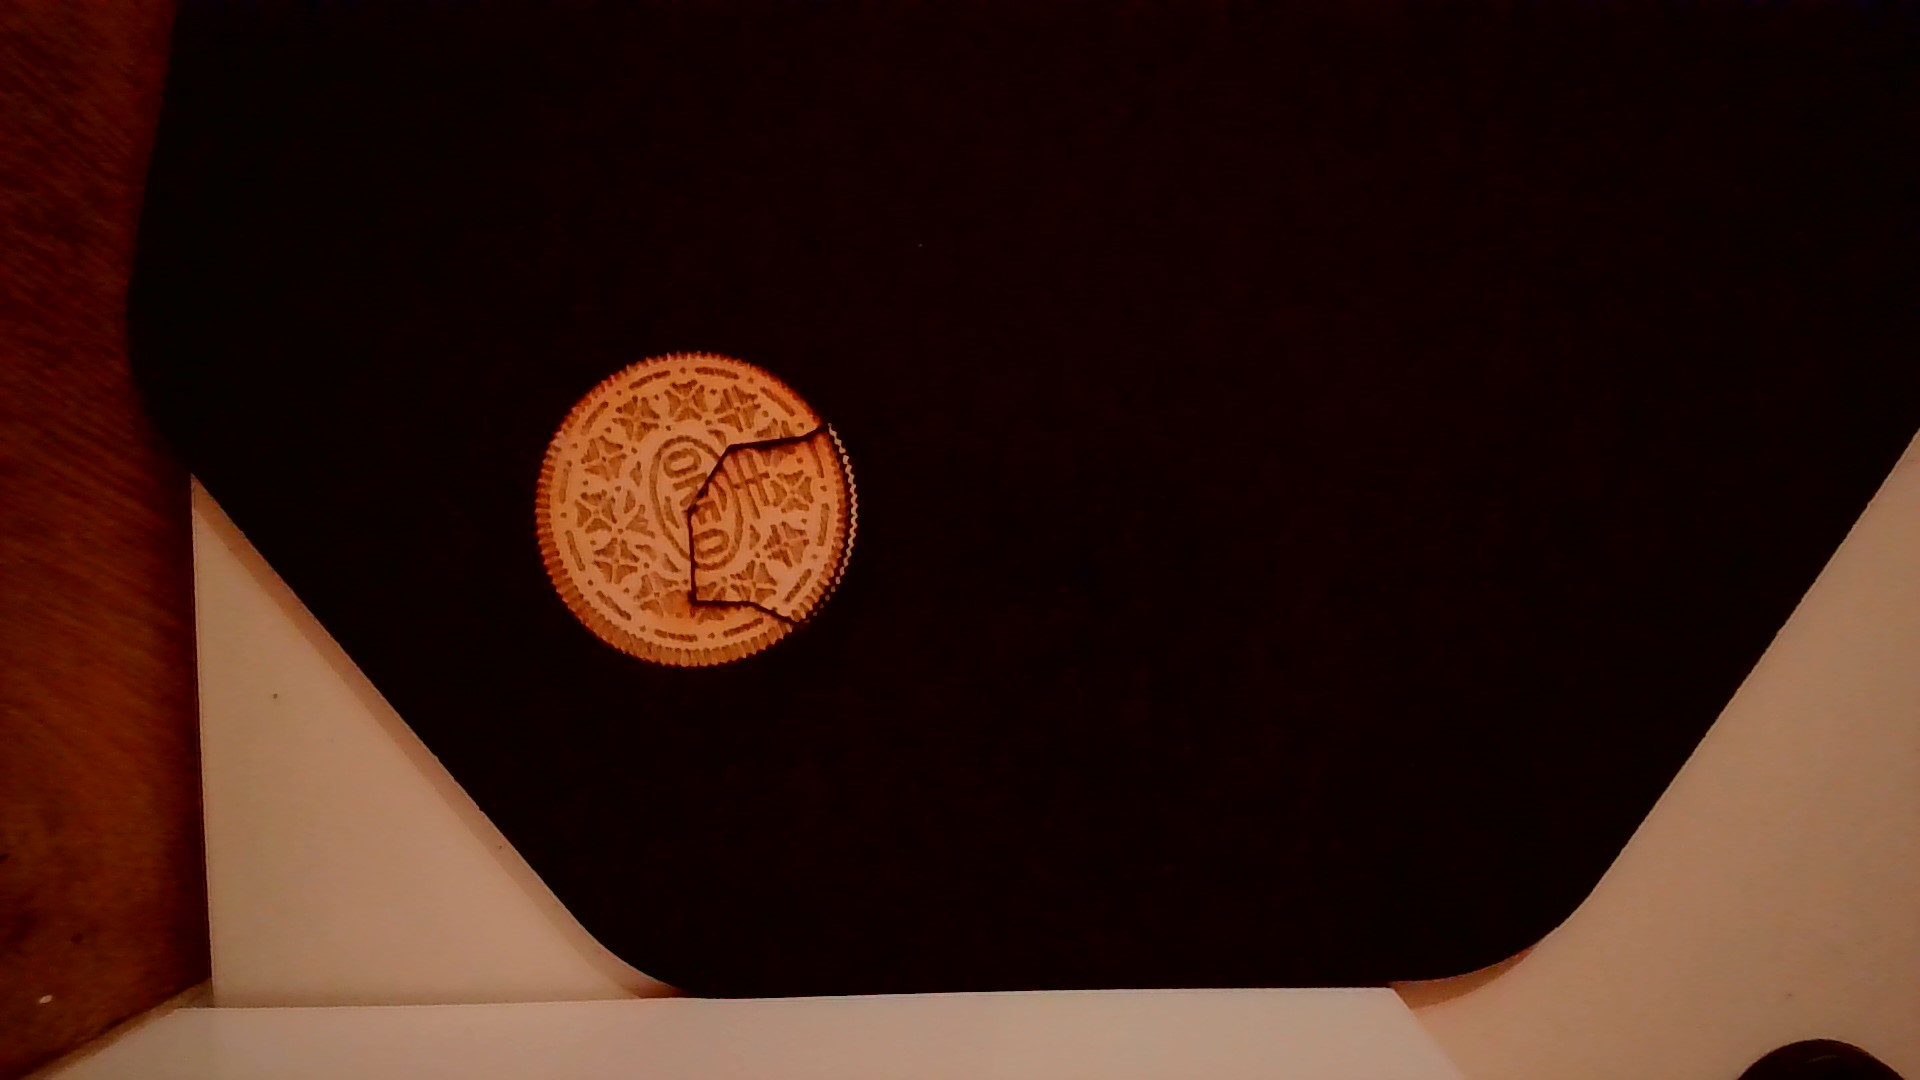Fissure: (678, 409, 845, 634)
Oréo: (526, 344, 860, 673)
